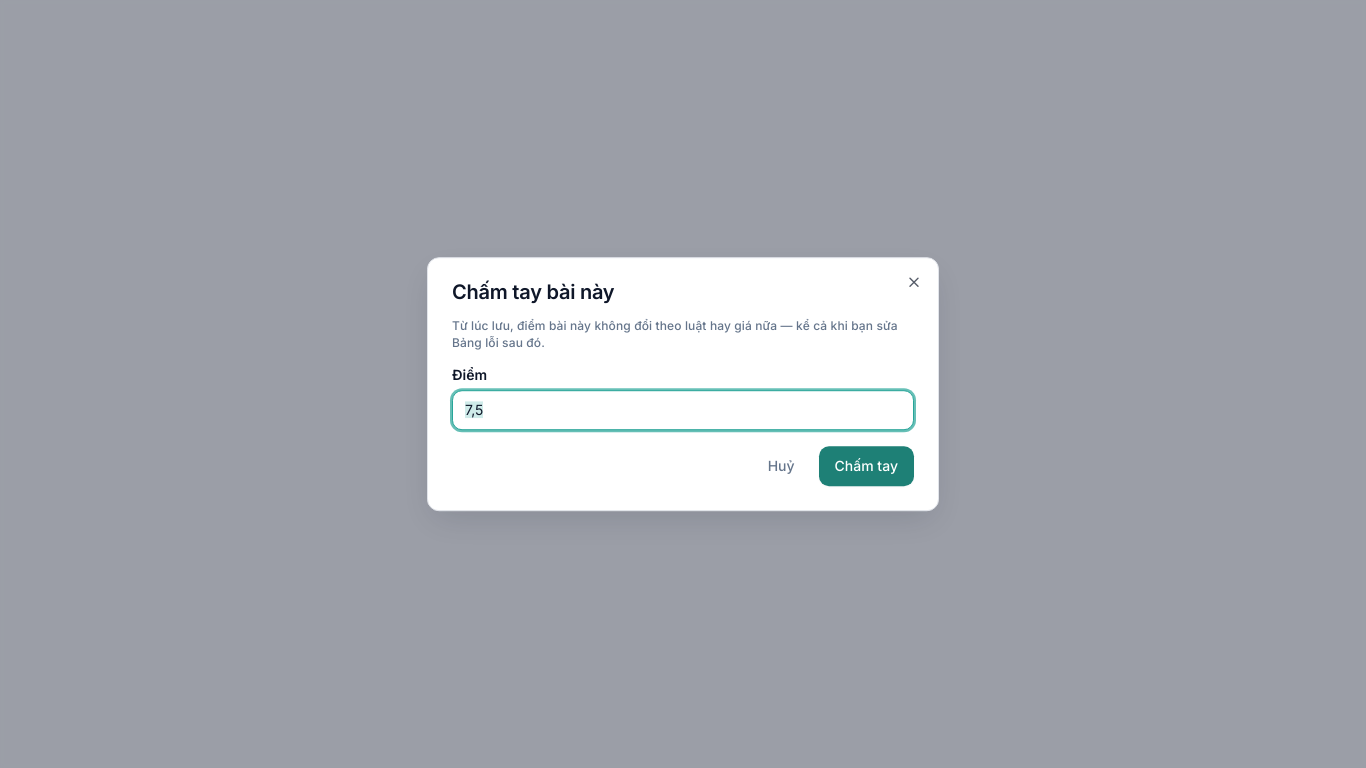
it: ManualScoreDialog › rejects a value above the rubric ceiling before sending anything, in Vietnamese decimal form
Replace the text in the field labelled "Điểm" with "15": (683, 410) [452, 390, 914, 430]
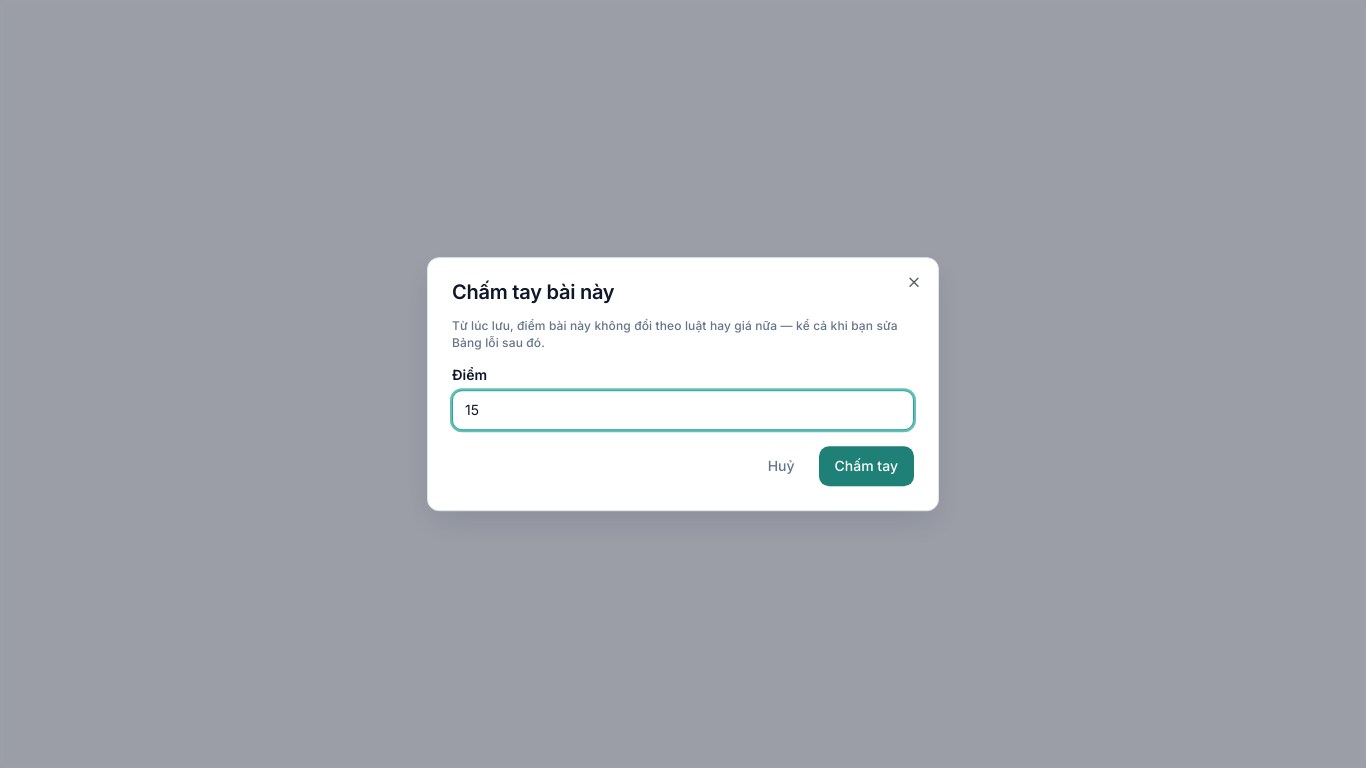
Click the button "Chấm tay": (866, 466) [819, 446, 914, 486]
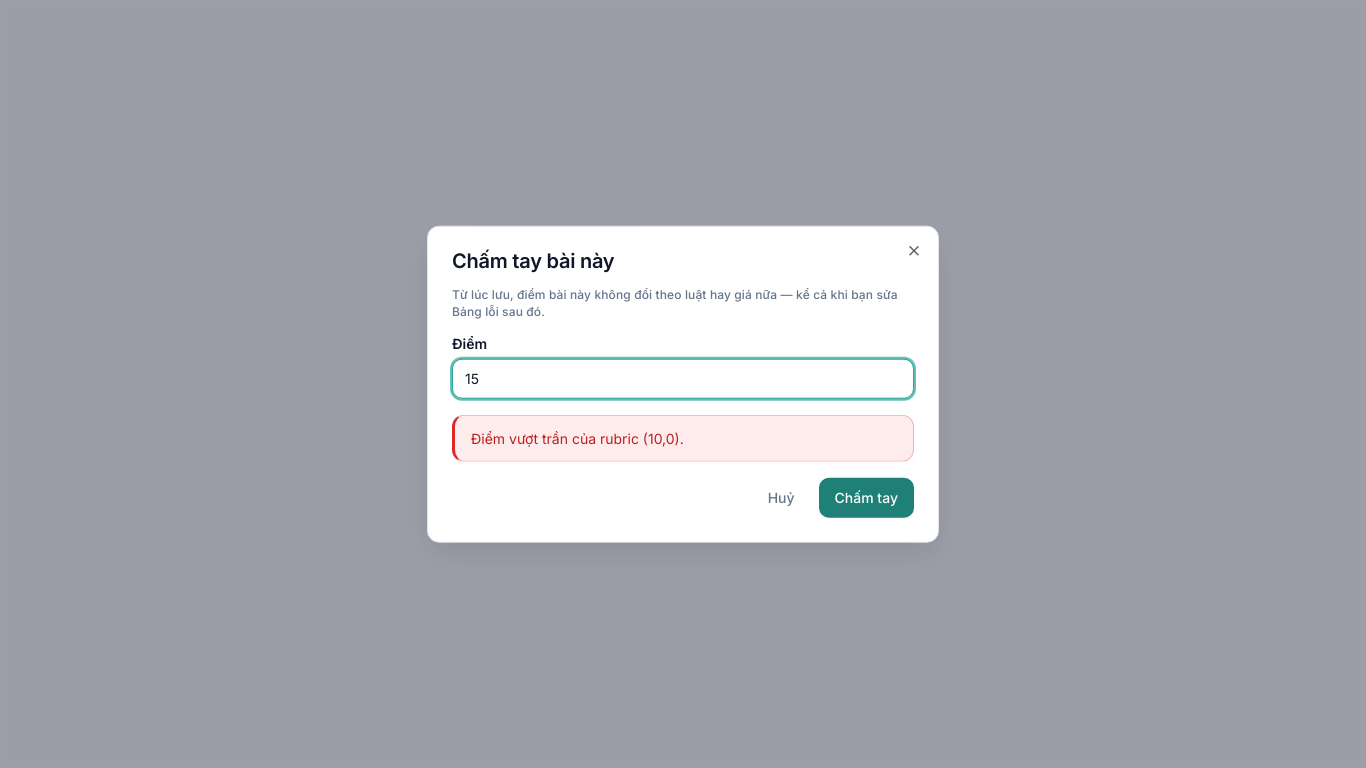
Expected: the text "Điểm vượt trần của rubric (10,0)." is shown, [471, 429, 684, 446]
